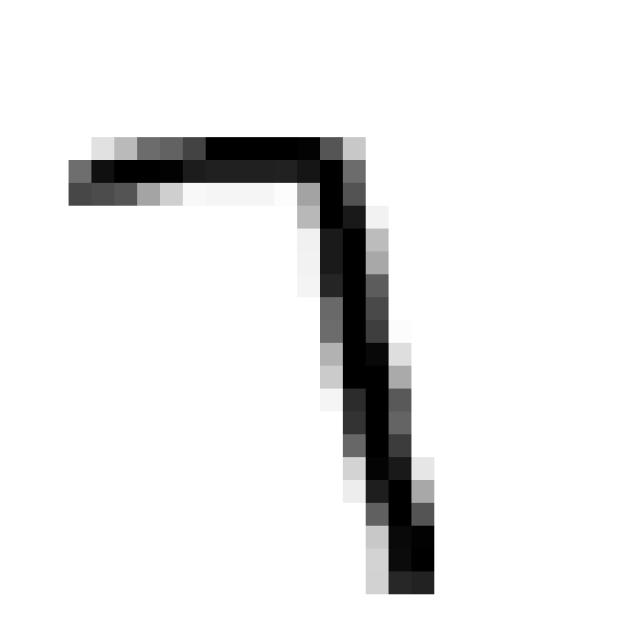6 -six-: (50, 110, 457, 614)
